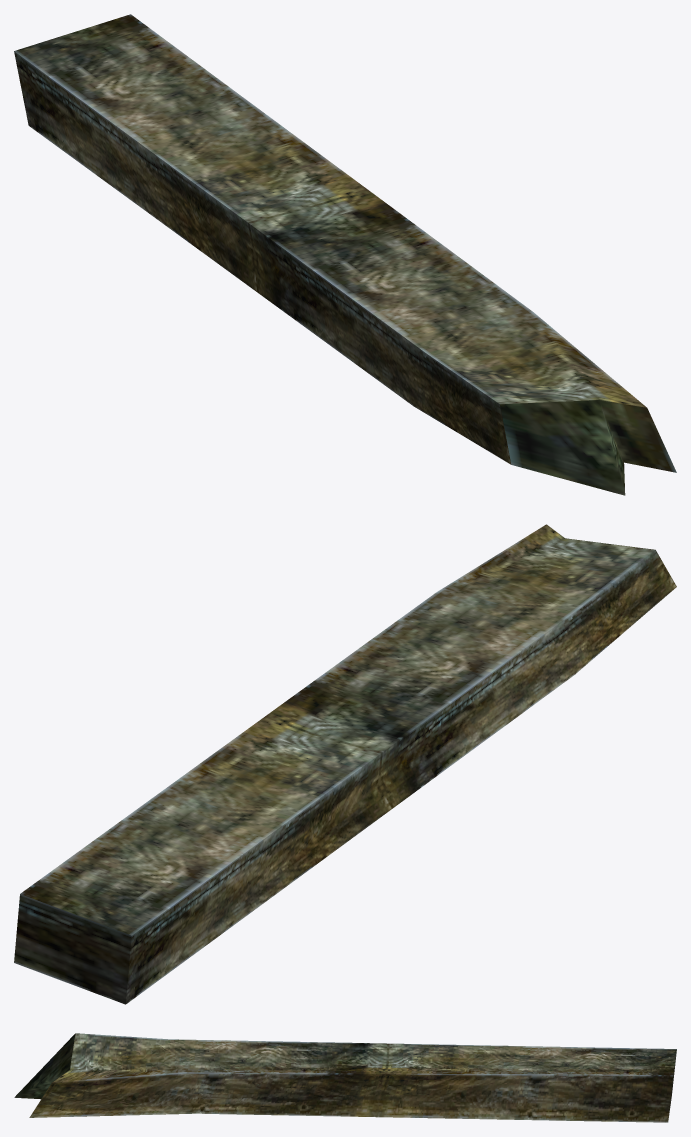
3 views of the same model, one above another, from view 1: azimuth 30°, elevation 25°; view 2: azimuth 150°, elevation 25°; view 3: azimuth 270°, elevation 25° (orthographic). The views are drawn at different scales.
Parts seen in each view (by area): view 1: hr_wd2-col; view 2: hr_wd2-col; view 3: hr_wd2-col.
Boxes of the visible parts, x1,y1,x2,y2 form: hr_wd2-col: (14, 14, 676, 495); hr_wd2-col: (14, 524, 676, 1004); hr_wd2-col: (14, 1033, 676, 1122).
Size of the model in its own units: 0.7008 by 0.4259 by 4.62.
Materials: 2 (2 with a texture image).
